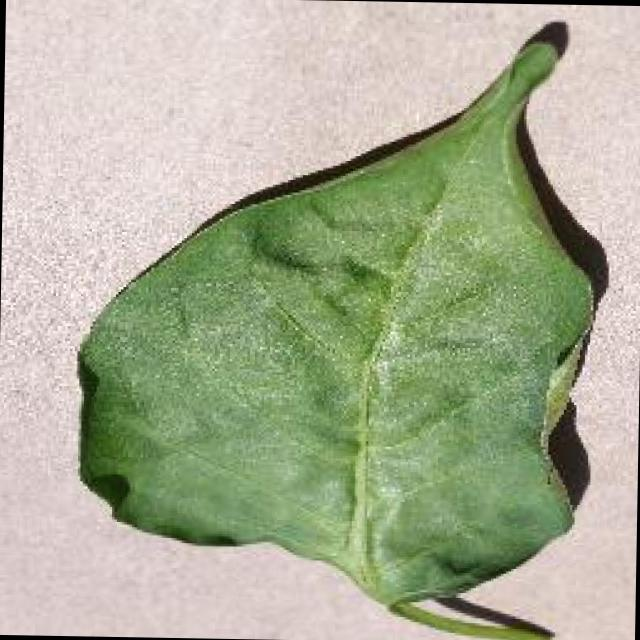Chilli_Healthy: (67, 8, 610, 640)
